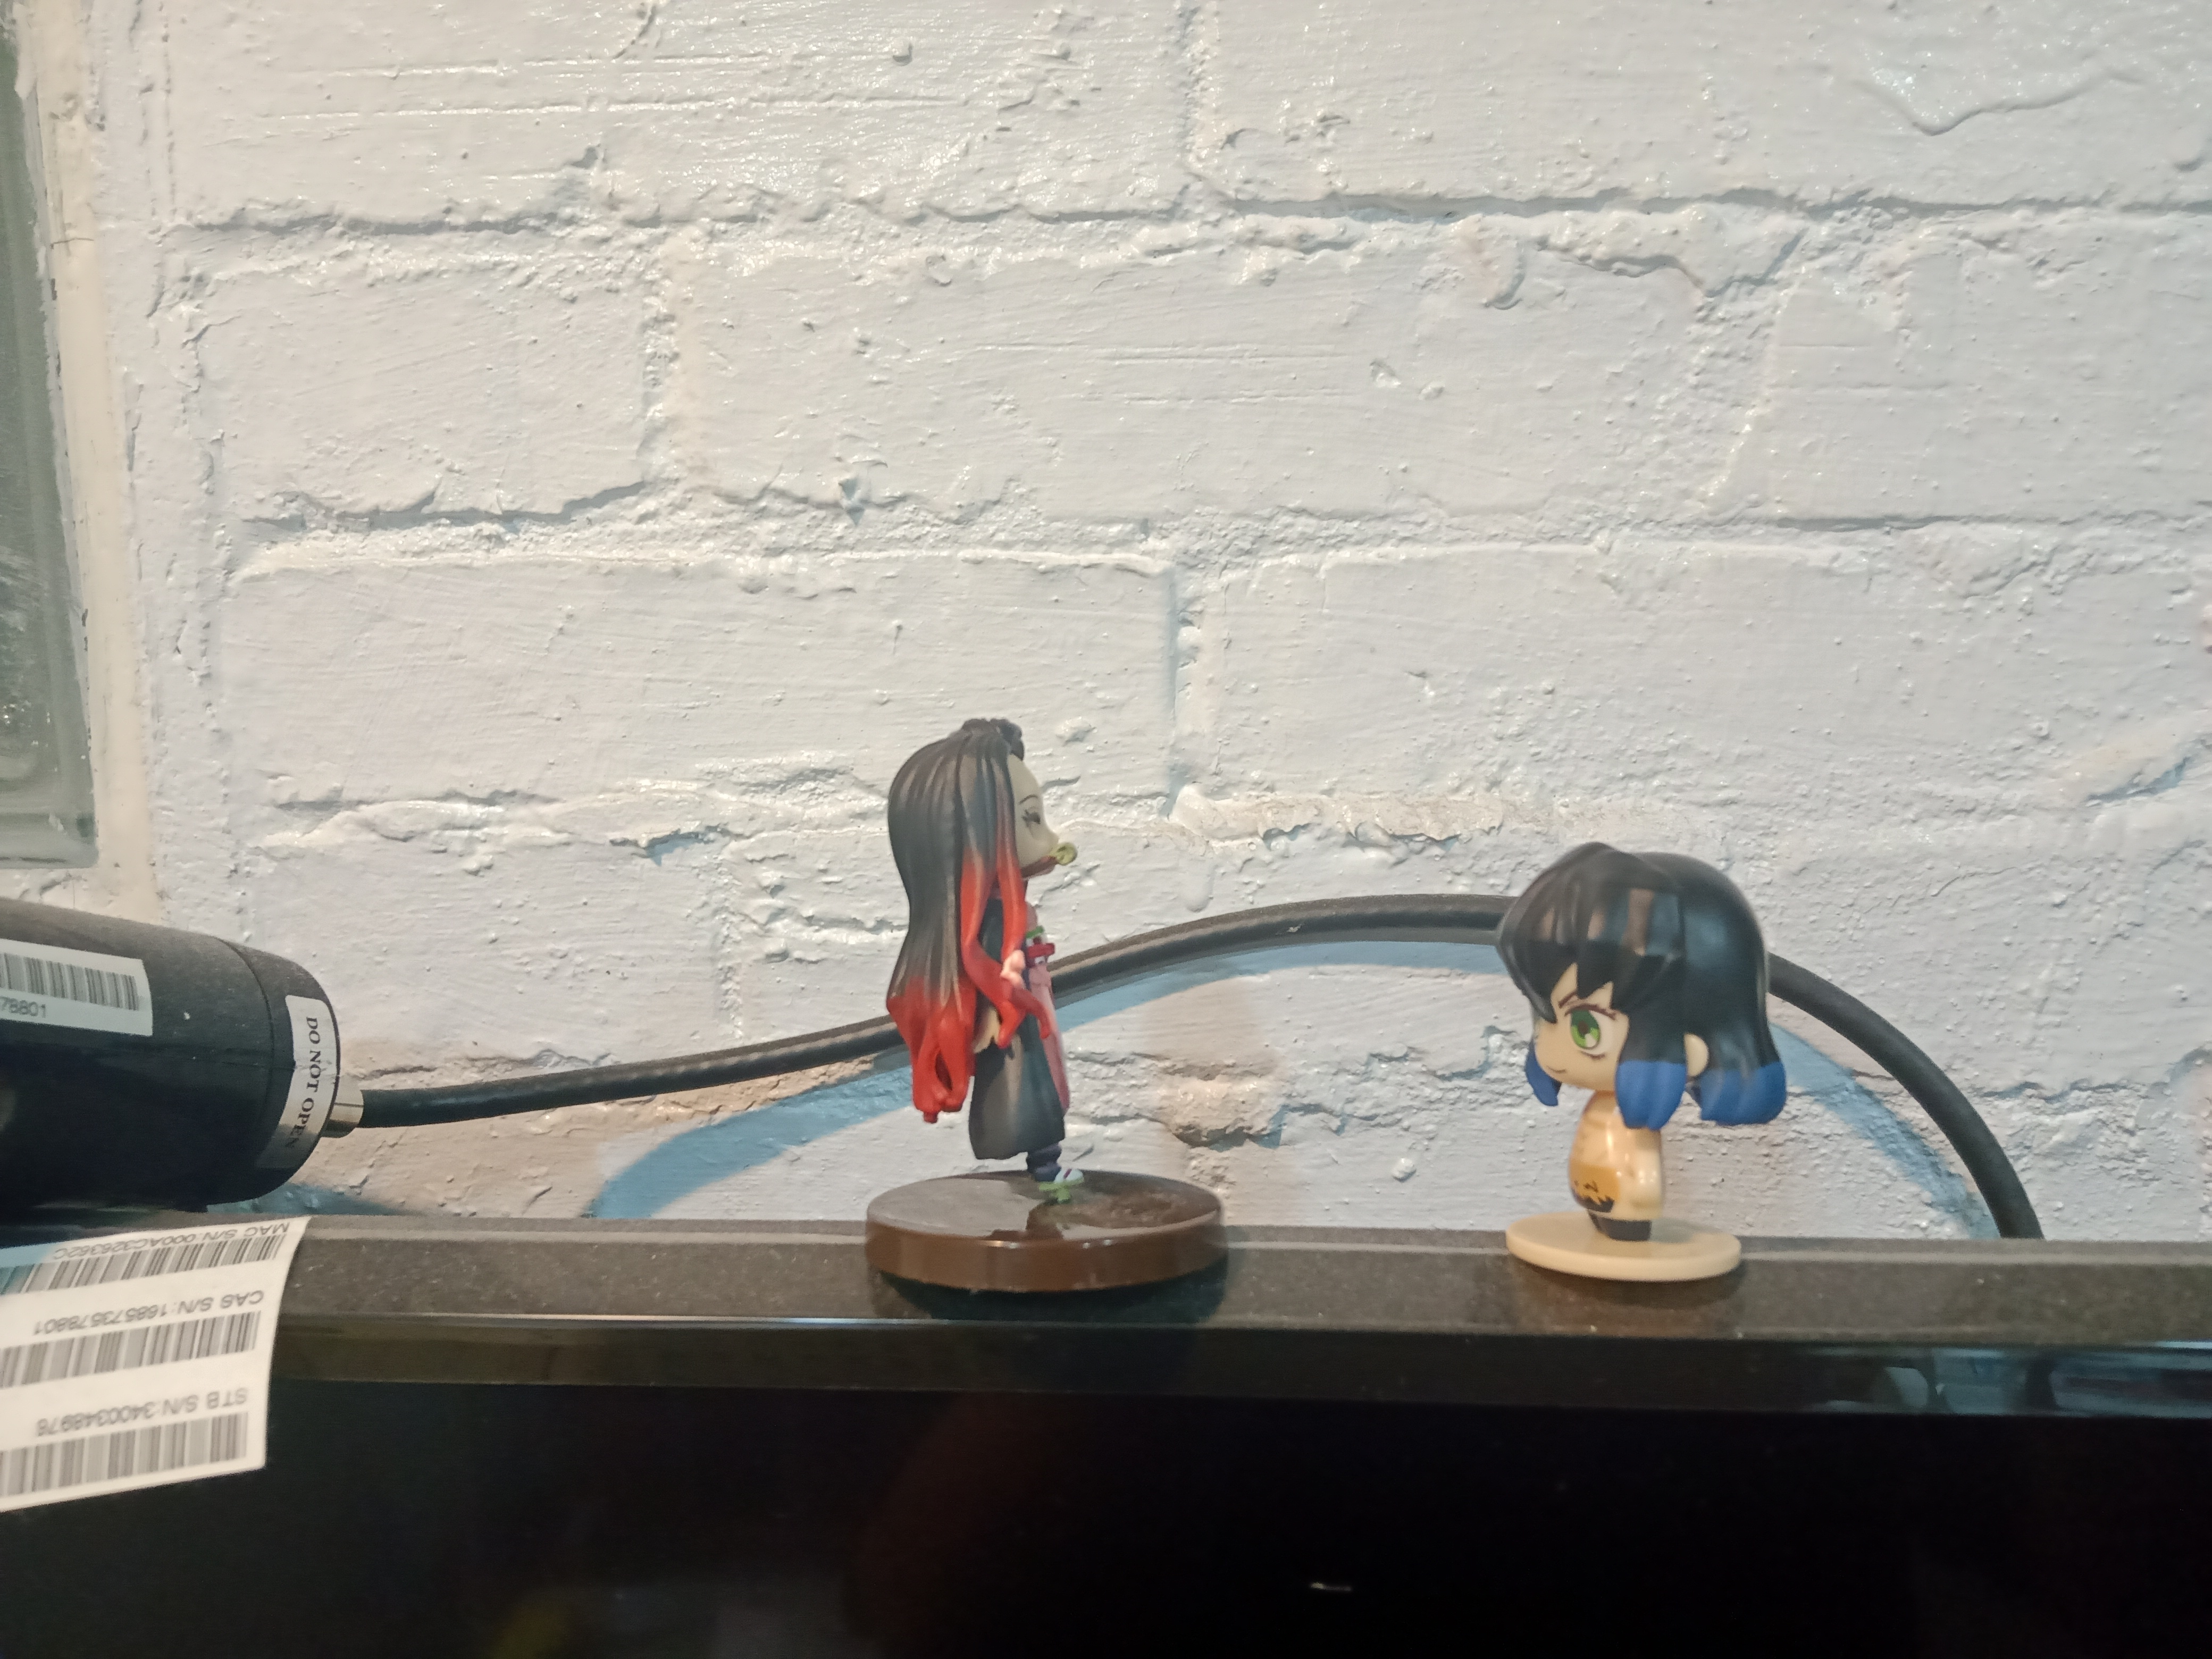Inosuke: (1472, 833, 1810, 1302)
Nezuko: (850, 706, 1244, 1312)
